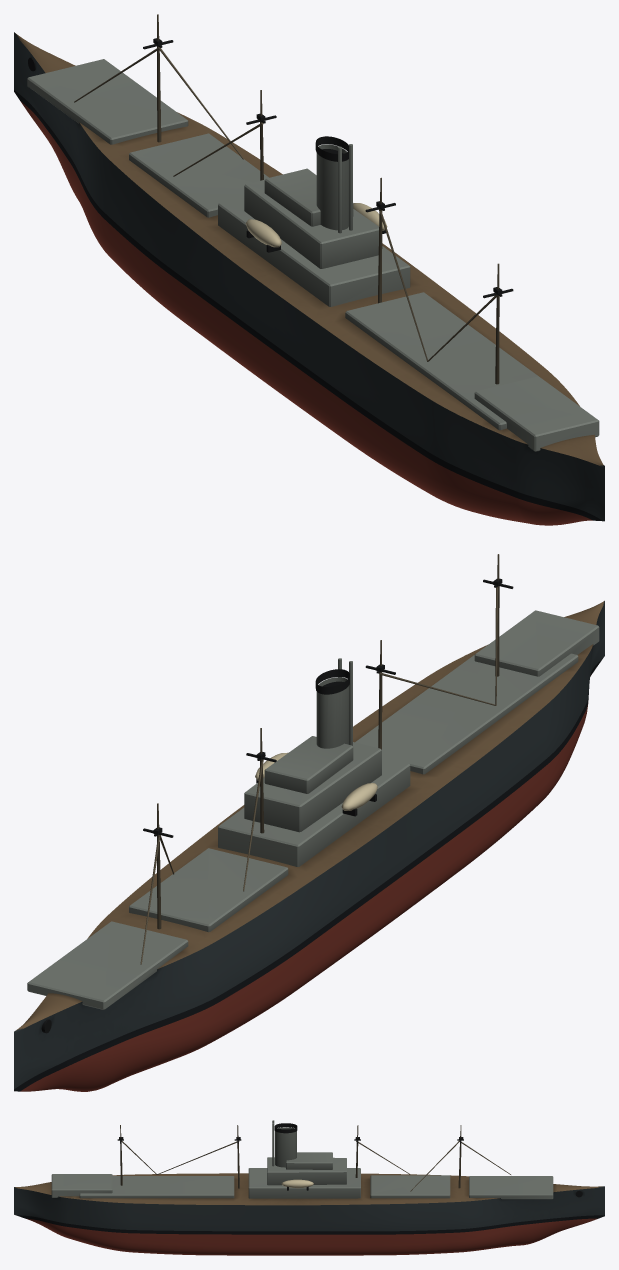
File: ss-baron-ogilvy.glb
The picture shows the model from 3 angles, top to bottom: view 1: azimuth 30°, elevation 25°; view 2: azimuth 150°, elevation 25°; view 3: azimuth 270°, elevation 25°; orthographic projection. The views are drawn at different scales.
Visible parts, largest first — view 1: ss-baron-ogilvy; view 2: ss-baron-ogilvy; view 3: ss-baron-ogilvy.
Boxes of the visible parts, x1,y1,x2,y2 form: ss-baron-ogilvy: [14, 14, 604, 525]; ss-baron-ogilvy: [14, 554, 604, 1091]; ss-baron-ogilvy: [14, 1120, 604, 1255].
Size of the model in its own units: 16.2 by 28.75 by 126.
